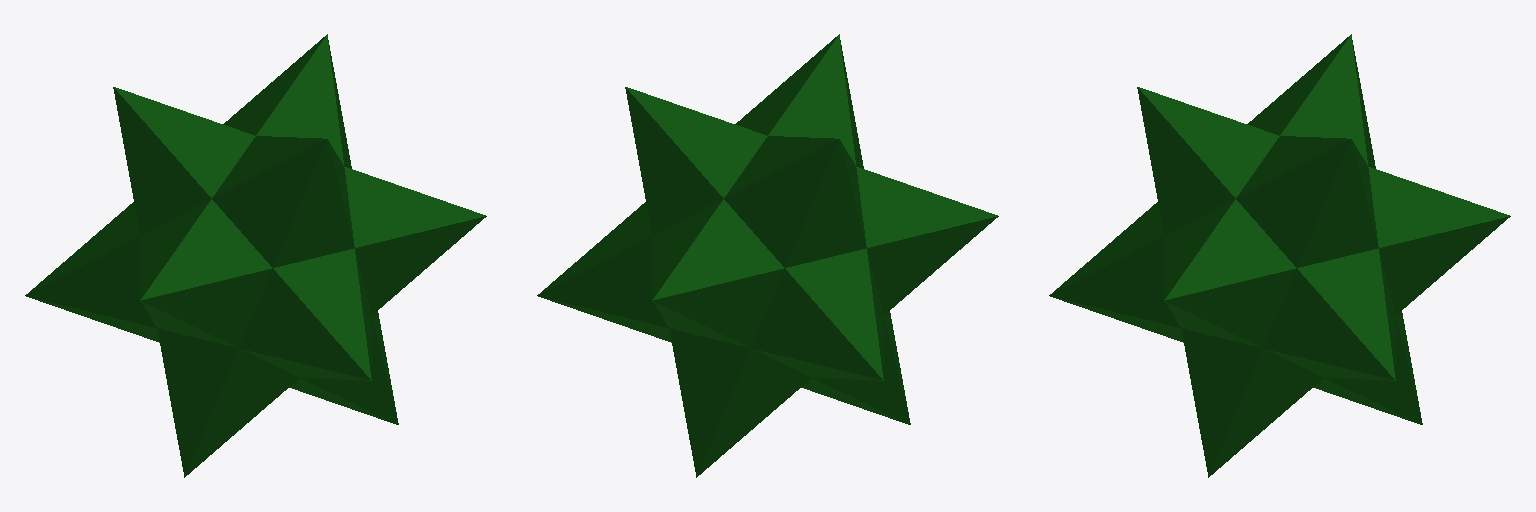
Rendered from dodecahedron.obj.
The picture shows the model from 3 angles: view 1: azimuth 30°, elevation 25°; view 2: azimuth 150°, elevation 25°; view 3: azimuth 270°, elevation 25°; orthographic projection.
Parts seen in each view (by area): view 1: group_0; view 2: group_0; view 3: group_0.
Part boxes in pixels (left/top/right/bottom): group_0: left=25, top=34, right=486, bottom=477; group_0: left=537, top=34, right=998, bottom=477; group_0: left=1049, top=34, right=1510, bottom=477.
Bounding box in the file's own units: 1.14 × 1.06 × 1.31.